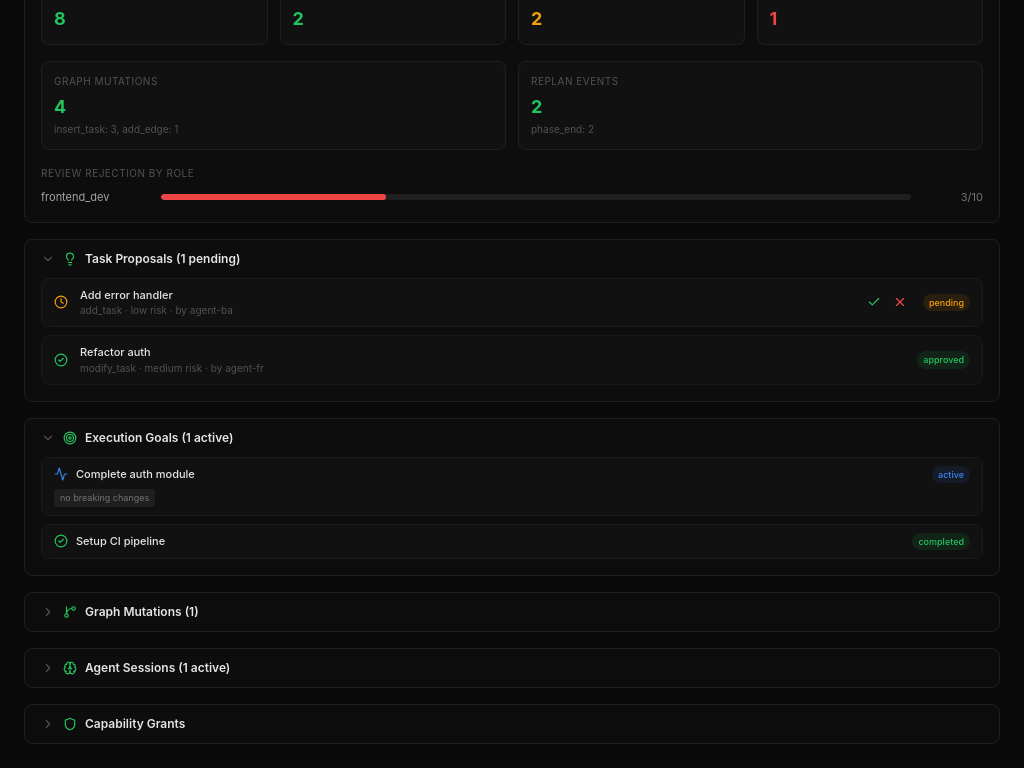
Test case: AgenticPanel › shows default message when no grants
(page scrolled)
Click the button "Capability Grants": (135, 724) [25,705,999,743]
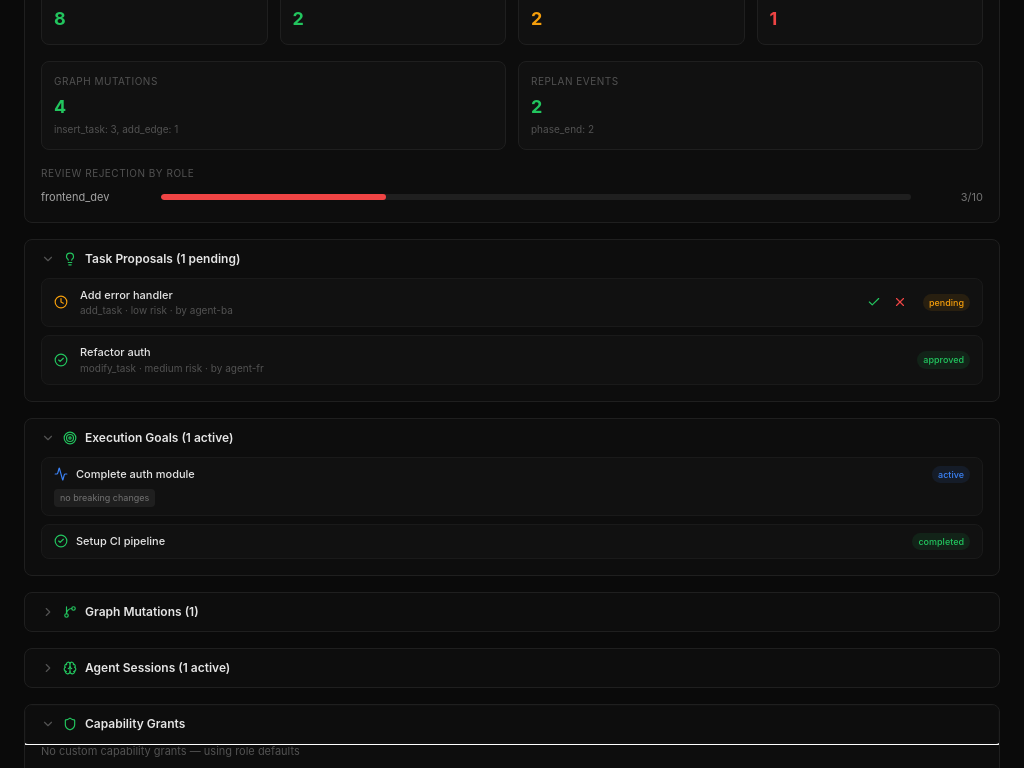
Check: the text "No custom capability grants — using role defaults" is shown, box [41,744,300,758]
